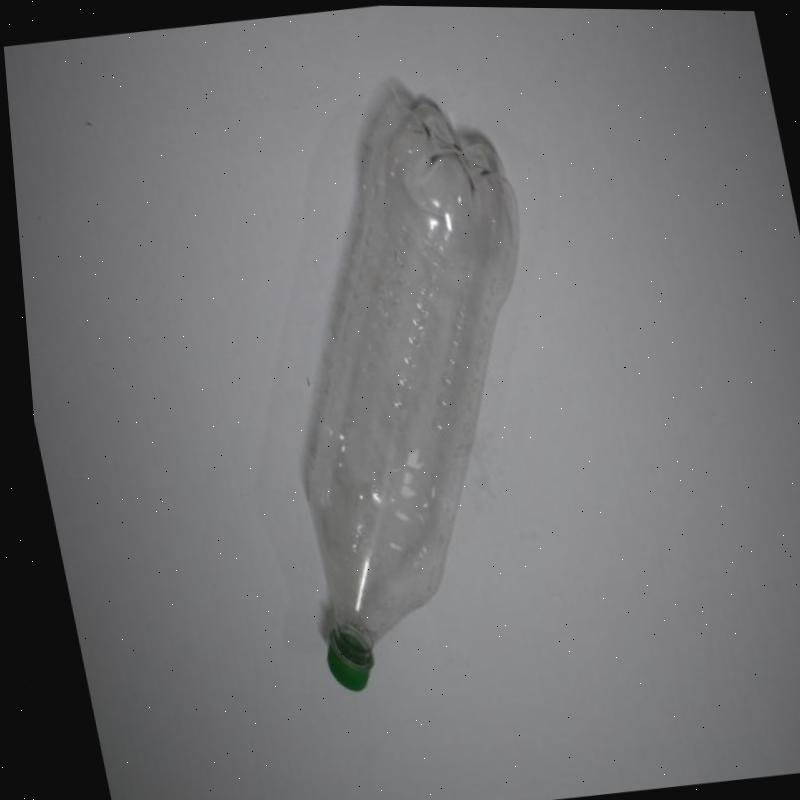botella: (206, 67, 599, 697)
